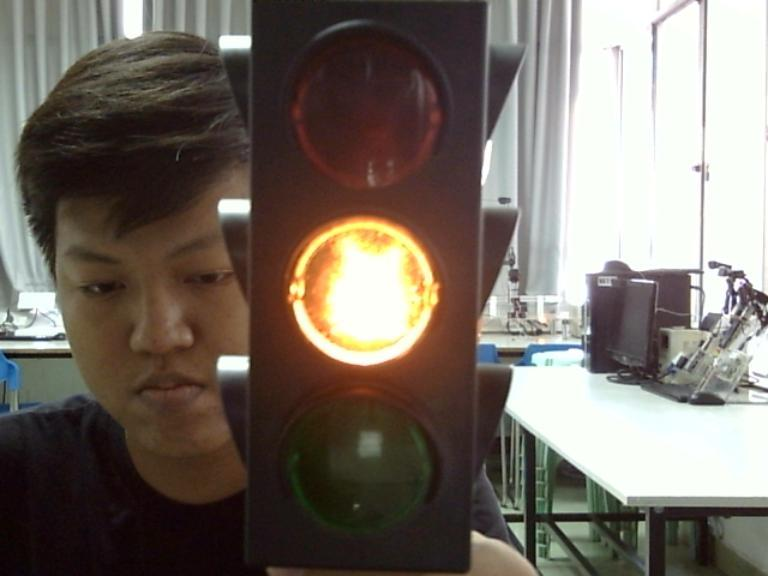yellow: (268, 198, 466, 380)
